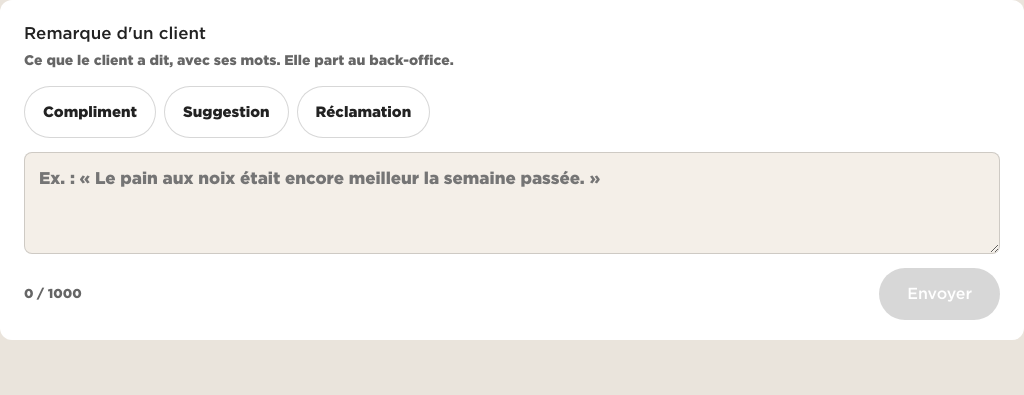
Test case: RemarkForm › says "Envoi…" while sending, and cannot be sent twice
Click the button "Compliment" at (90, 112), box x1=24 y1=86 x2=156 y2=138
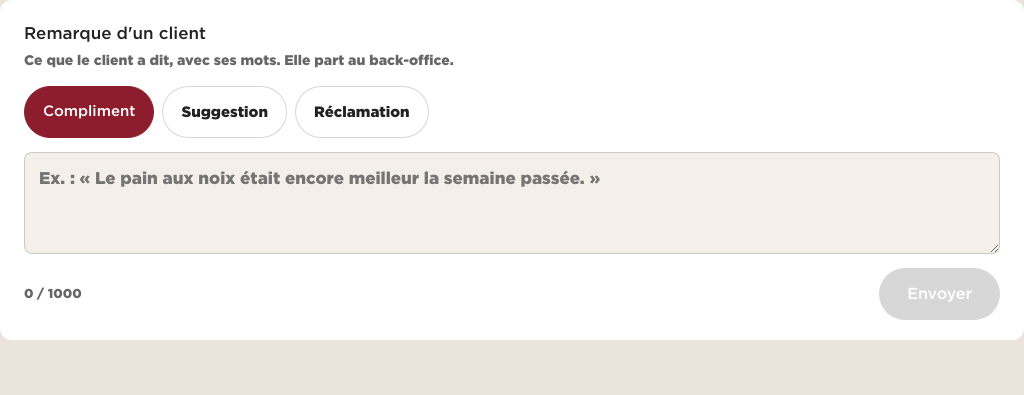
Replace the text in the text box with "Merci pour le gâteau." at (512, 203), box x1=24 y1=152 x2=1000 y2=254
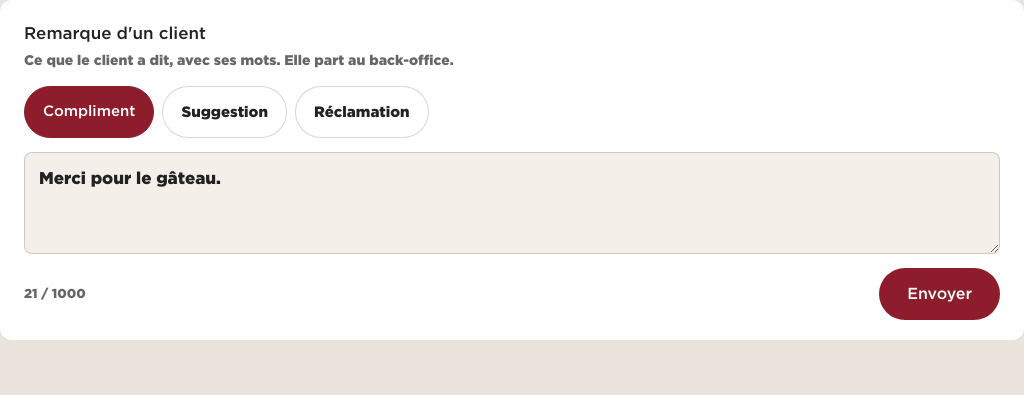
Click the button "Envoyer" at (940, 294), box x1=879 y1=268 x2=1000 y2=320
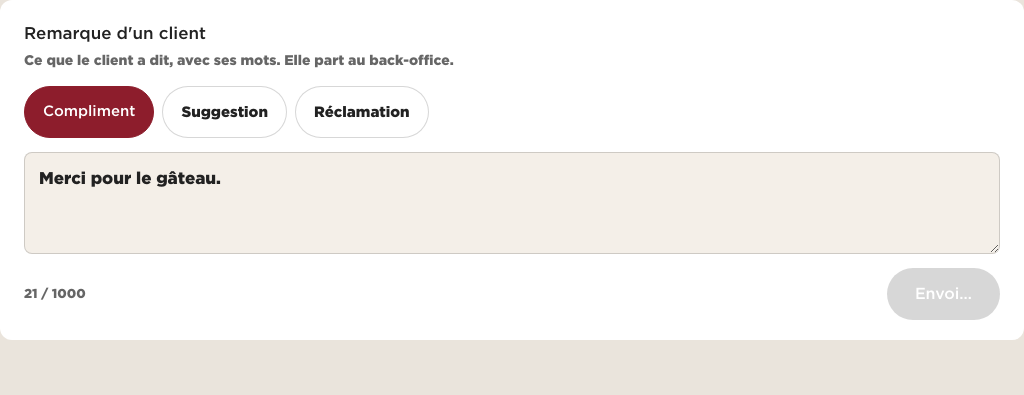
Check: the button "Envoi…" is shown
Check: the button "Envoi…" is disabled
Click the button "Envoi…" at (943, 294), box x1=887 y1=268 x2=1000 y2=320
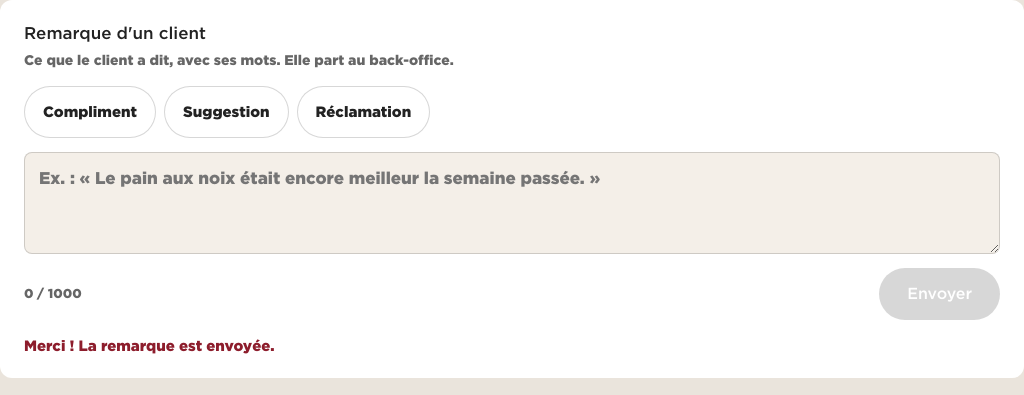
Check: the message reads "Merci ! La remarque est envoyée.", box x1=24 y1=337 x2=274 y2=354
